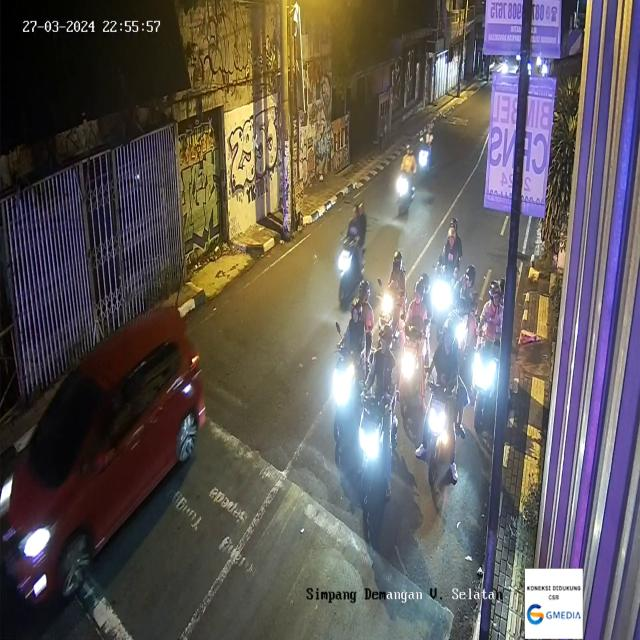car: (3, 299, 209, 633)
motorcycle: (360, 325, 404, 525), (334, 283, 378, 462), (420, 318, 460, 504), (477, 274, 509, 438), (335, 203, 367, 312), (431, 217, 460, 314), (382, 250, 407, 360), (395, 140, 417, 218), (417, 114, 437, 198)
